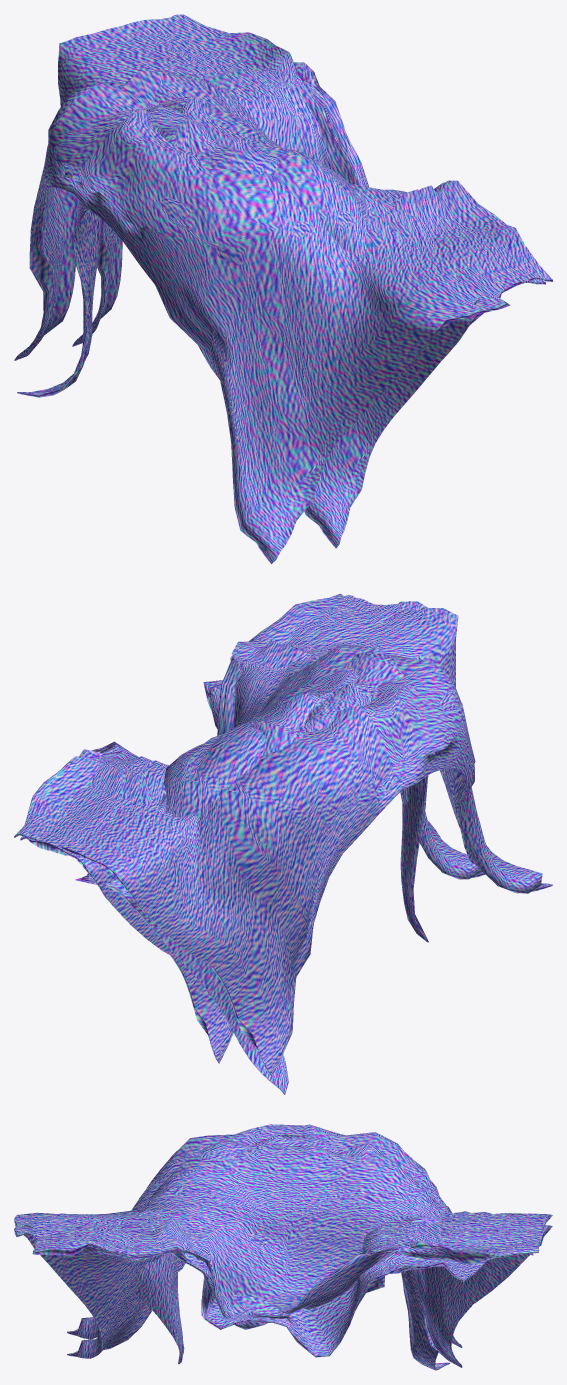
File: cover_cloth.fbx
The picture shows the model from 3 angles, top to bottom: view 1: azimuth 30°, elevation 25°; view 2: azimuth 150°, elevation 25°; view 3: azimuth 270°, elevation 25°; orthographic projection. The views are drawn at different scales.
Parts seen in each view (by area): view 1: apparatus_cloth, apparatus_cloth__1_, apparatus_cloth_02; view 2: apparatus_cloth, apparatus_cloth__1_, apparatus_cloth_02; view 3: apparatus_cloth__1_, apparatus_cloth_02, apparatus_cloth.
Part boxes in pixels (x1,y1,x2,y2): apparatus_cloth: (14,17,545,564); apparatus_cloth__1_: (72,14,552,548); apparatus_cloth_02: (17,71,281,397); apparatus_cloth: (20,598,552,1076); apparatus_cloth__1_: (14,593,485,1063); apparatus_cloth_02: (75,652,428,1094); apparatus_cloth__1_: (14,1144,552,1367); apparatus_cloth_02: (130,1133,533,1370); apparatus_cloth: (14,1124,552,1347).
Size of the model in its own units: 567 by 633 by 1253.
